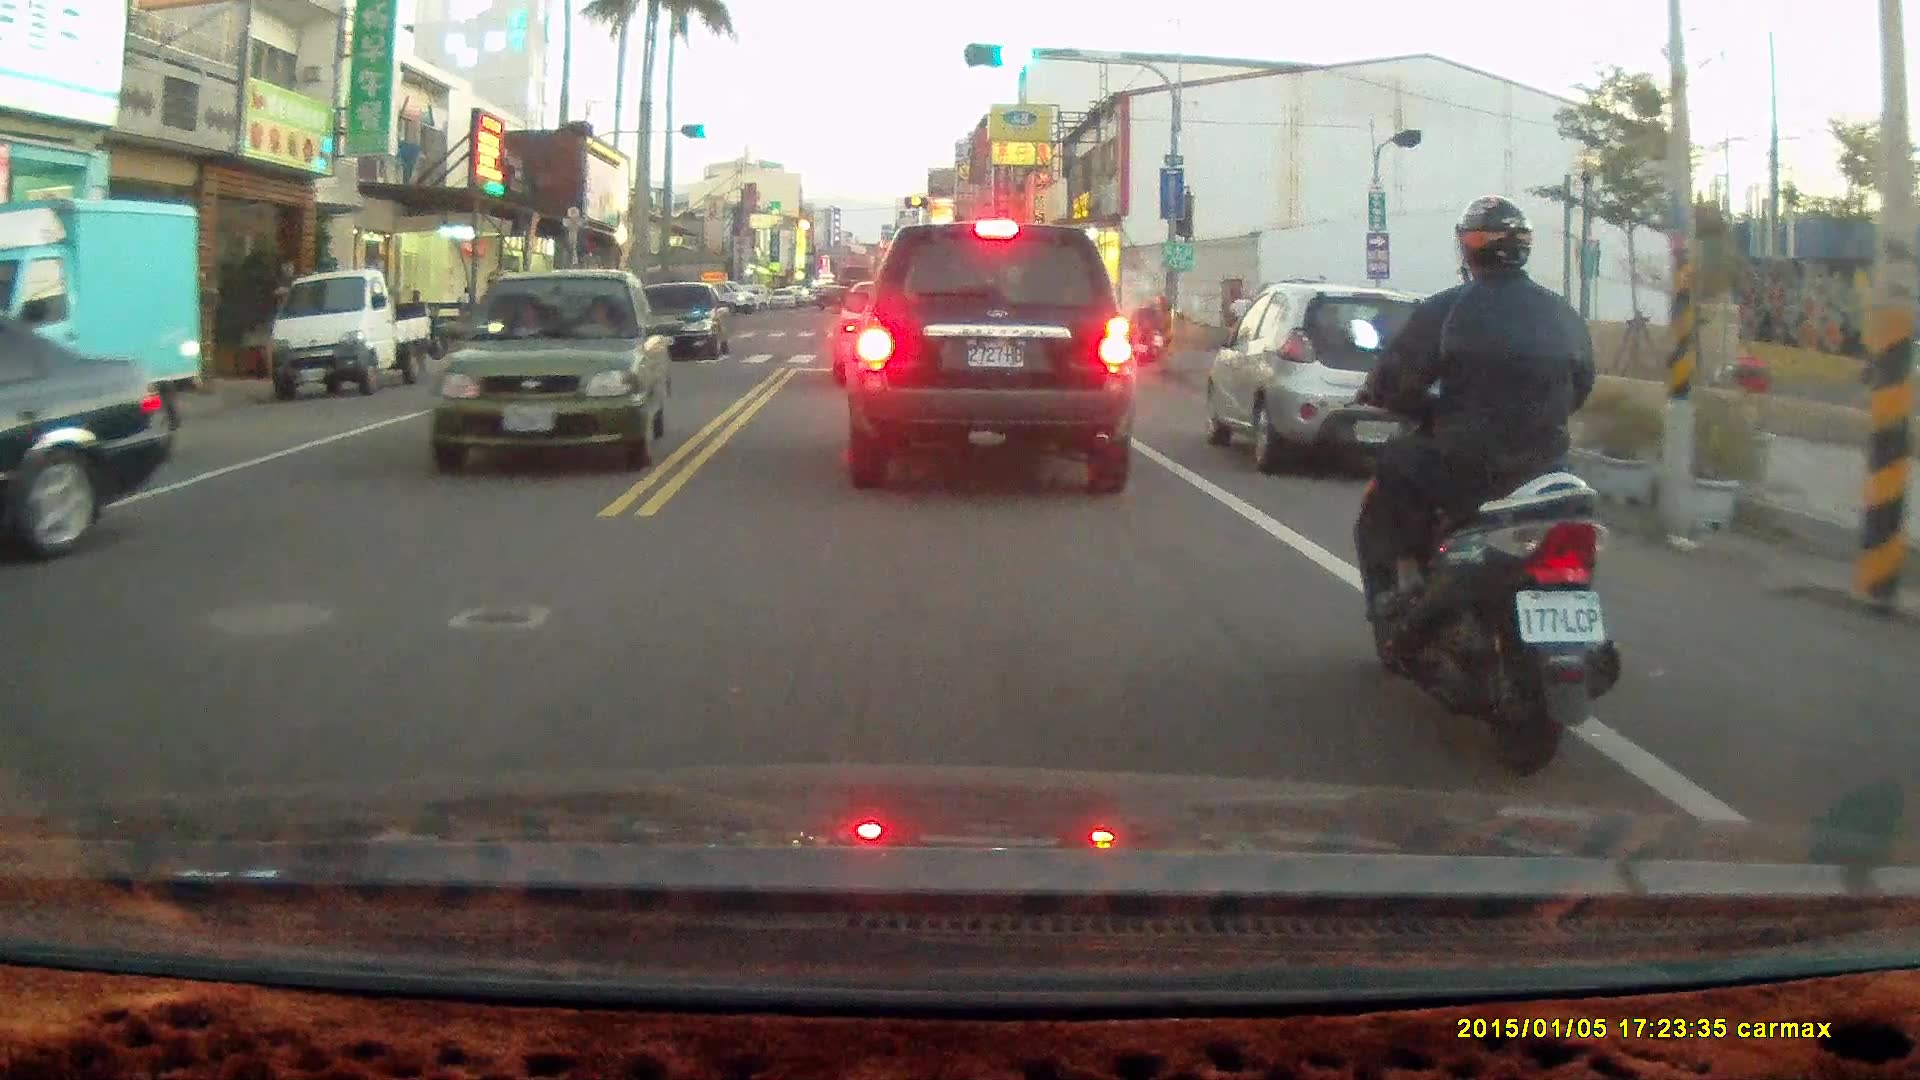pedestrian: (1224, 287, 1253, 360)
rider: (1345, 196, 1627, 783), (1133, 292, 1177, 366)
vehicle: (845, 223, 1139, 495), (1204, 282, 1479, 482), (0, 195, 208, 453), (432, 267, 670, 469), (1, 315, 170, 563), (265, 268, 436, 400), (625, 282, 734, 365)
